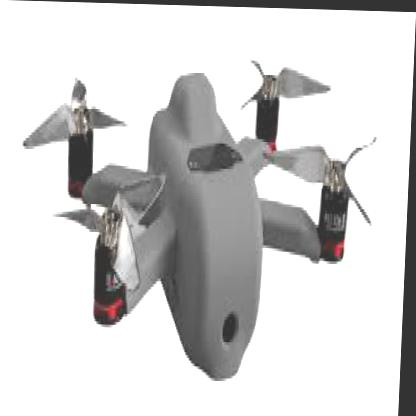UAS: (16, 43, 381, 381)
